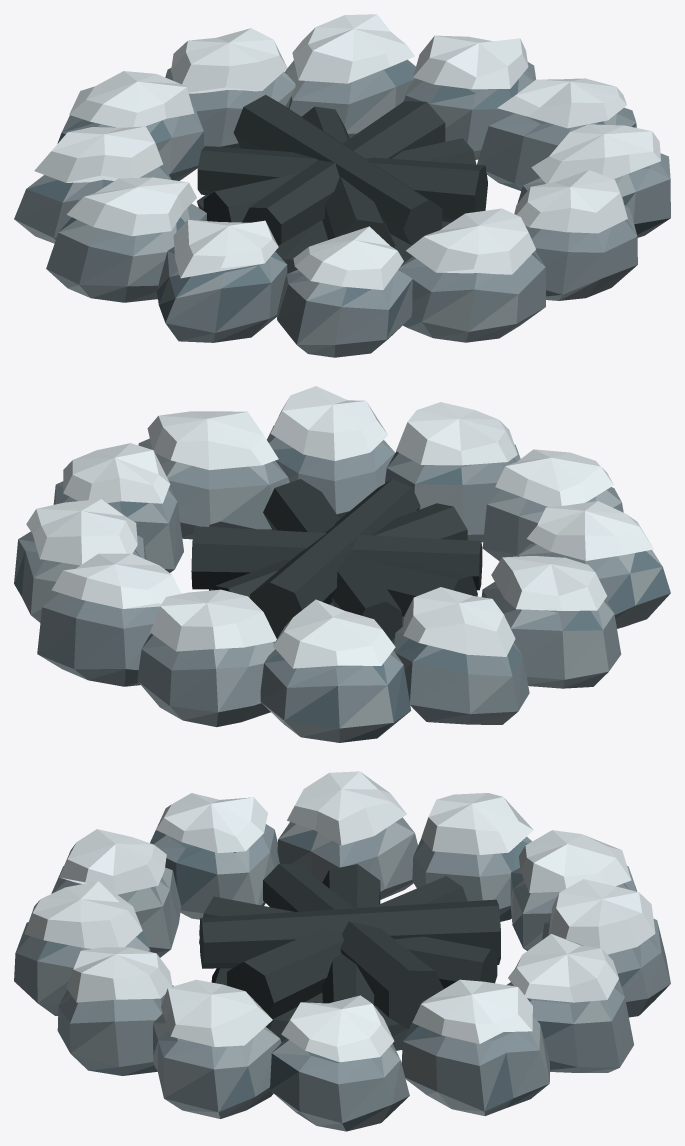
File: PROP_09_CampfireRingSnowy.glb
The picture shows the model from 3 angles, top to bottom: view 1: azimuth 30°, elevation 25°; view 2: azimuth 150°, elevation 25°; view 3: azimuth 270°, elevation 25°; orthographic projection. The views are drawn at different scales.
Parts seen in each view (by area): view 1: PROP_09_CampfireRingSnowy; view 2: PROP_09_CampfireRingSnowy; view 3: PROP_09_CampfireRingSnowy.
Part boxes in pixels (left/top/right/bottom): PROP_09_CampfireRingSnowy: left=14, top=14, right=670, bottom=357; PROP_09_CampfireRingSnowy: left=14, top=386, right=670, bottom=742; PROP_09_CampfireRingSnowy: left=14, top=771, right=670, bottom=1131.
Bounding box in the file's own units: 1.84 × 0.3325 × 1.76.
